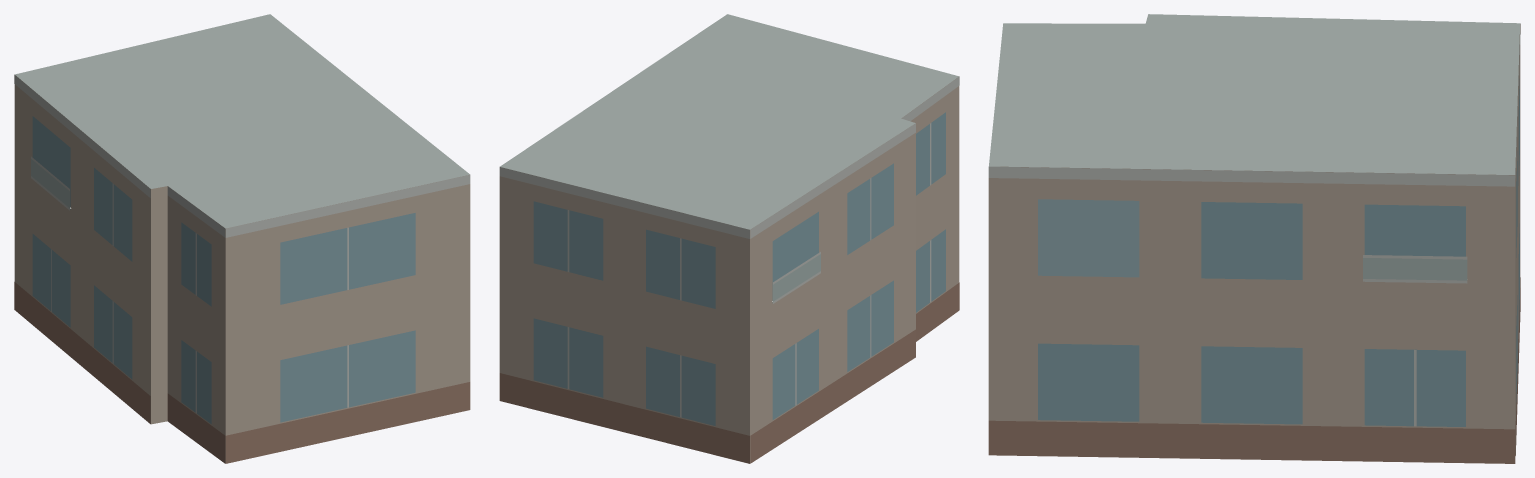
The model's file is survey-upis-32667168.glb.
3 renders of one model, left to right at view 1: azimuth 30°, elevation 25°; view 2: azimuth 150°, elevation 25°; view 3: azimuth 270°, elevation 25°, orthographic. The views are drawn at different scales.
Parts seen in each view (by area): view 1: survey-upis-32667168.tmp; view 2: survey-upis-32667168.tmp; view 3: survey-upis-32667168.tmp.
Part boxes in pixels (x1=…): survey-upis-32667168.tmp: x1=14, y1=14, x2=470, y2=463; survey-upis-32667168.tmp: x1=499, y1=14, x2=959, y2=463; survey-upis-32667168.tmp: x1=988, y1=14, x2=1520, y2=463.
Size of the model in its own units: 7.31 by 6.1 by 10.19.
